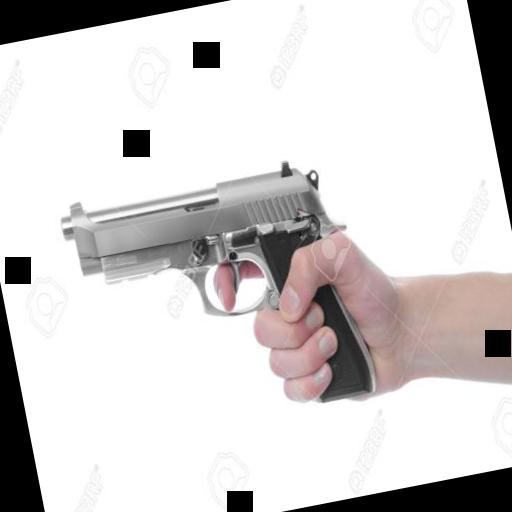Handgun: (54, 145, 388, 455)
